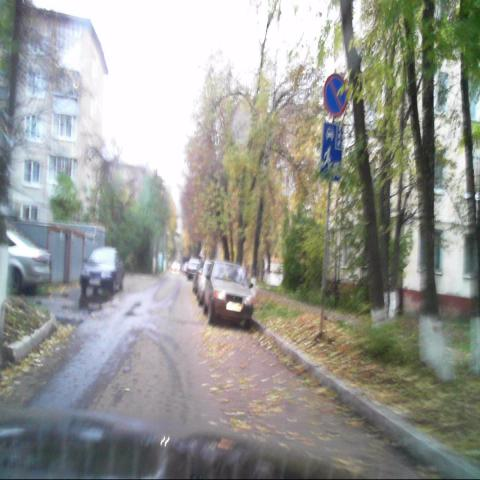3_28: (324, 73, 347, 117)
5_21: (320, 122, 343, 180)
